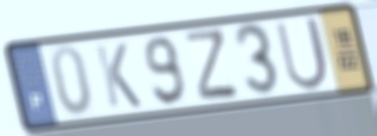0: (48, 42, 99, 120)
3: (235, 21, 280, 100)
9: (141, 33, 191, 108)
K: (92, 40, 145, 111)
U: (272, 13, 331, 94)
Z: (182, 26, 242, 102)
